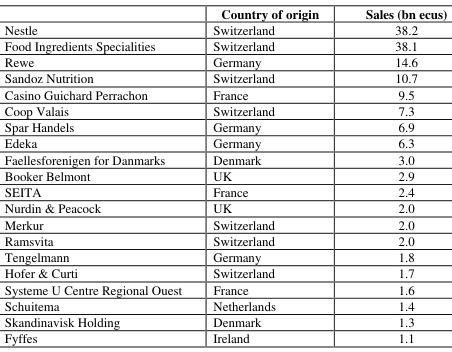table: (3, 4, 446, 346)
table column: (3, 4, 196, 346), (196, 4, 341, 346), (341, 4, 446, 346)
table column header: (3, 4, 446, 21)
table row: (3, 4, 446, 21), (3, 36, 446, 53), (3, 101, 446, 118), (3, 166, 446, 183), (3, 231, 446, 248), (3, 296, 446, 313), (3, 329, 446, 346), (3, 53, 446, 69), (3, 69, 446, 85), (3, 85, 446, 101), (3, 118, 446, 134), (3, 134, 446, 150), (3, 150, 446, 166), (3, 183, 446, 199), (3, 199, 446, 215), (3, 215, 446, 231), (3, 248, 446, 264), (3, 264, 446, 280), (3, 280, 446, 296), (3, 313, 446, 329), (3, 21, 446, 36)
